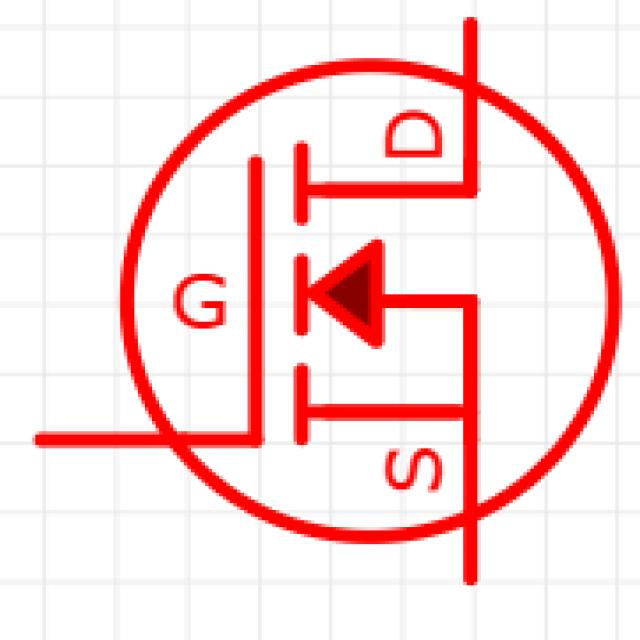nmos: (42, 4, 625, 610)
